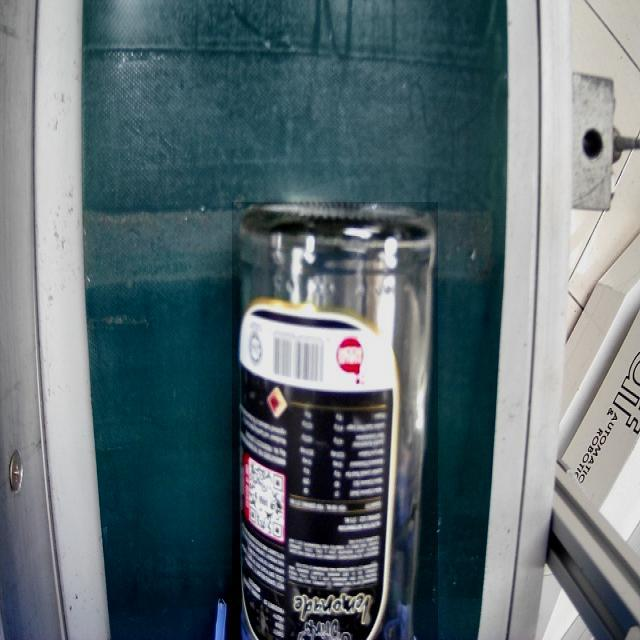Glass: (232, 202, 438, 640)
